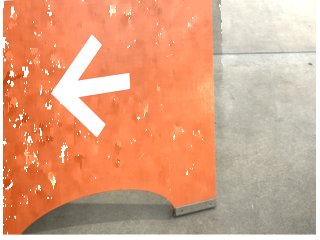Obstacle: (5, 2, 218, 233)
